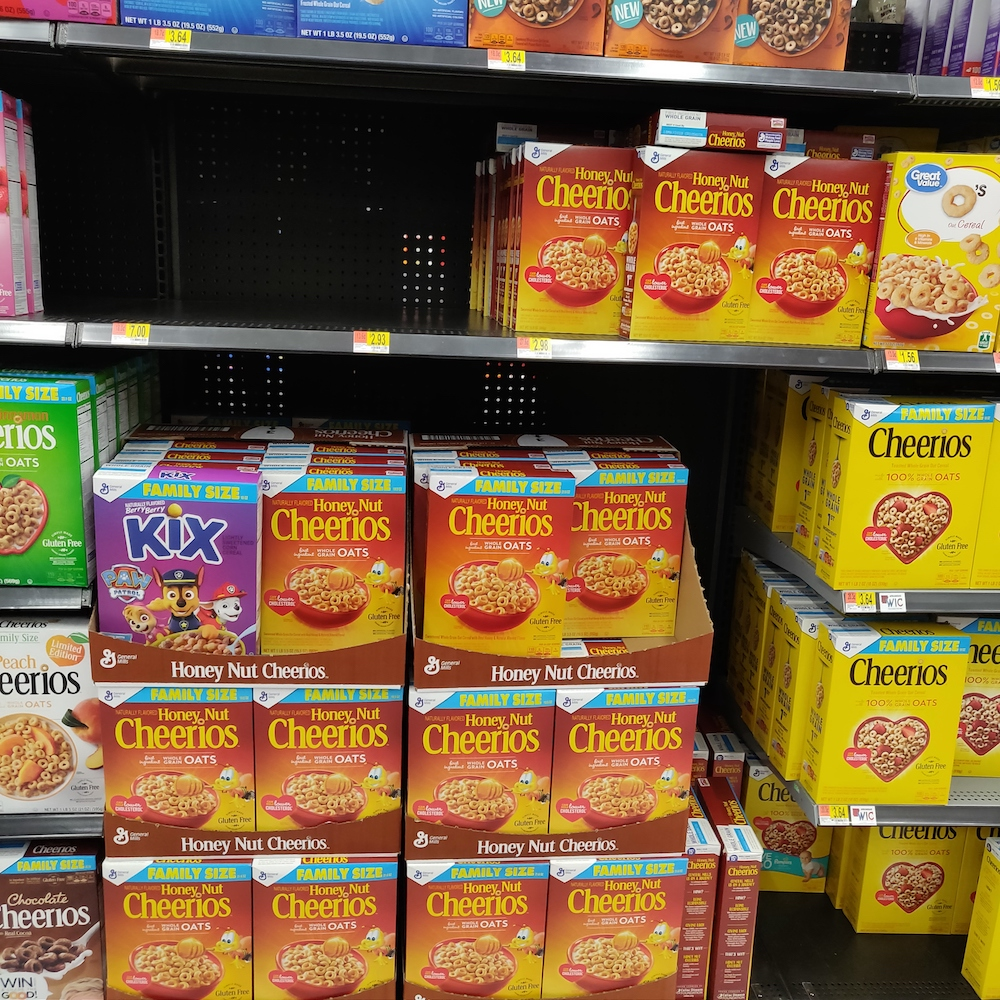Kix Berry -568919964: (90, 473, 266, 652)
